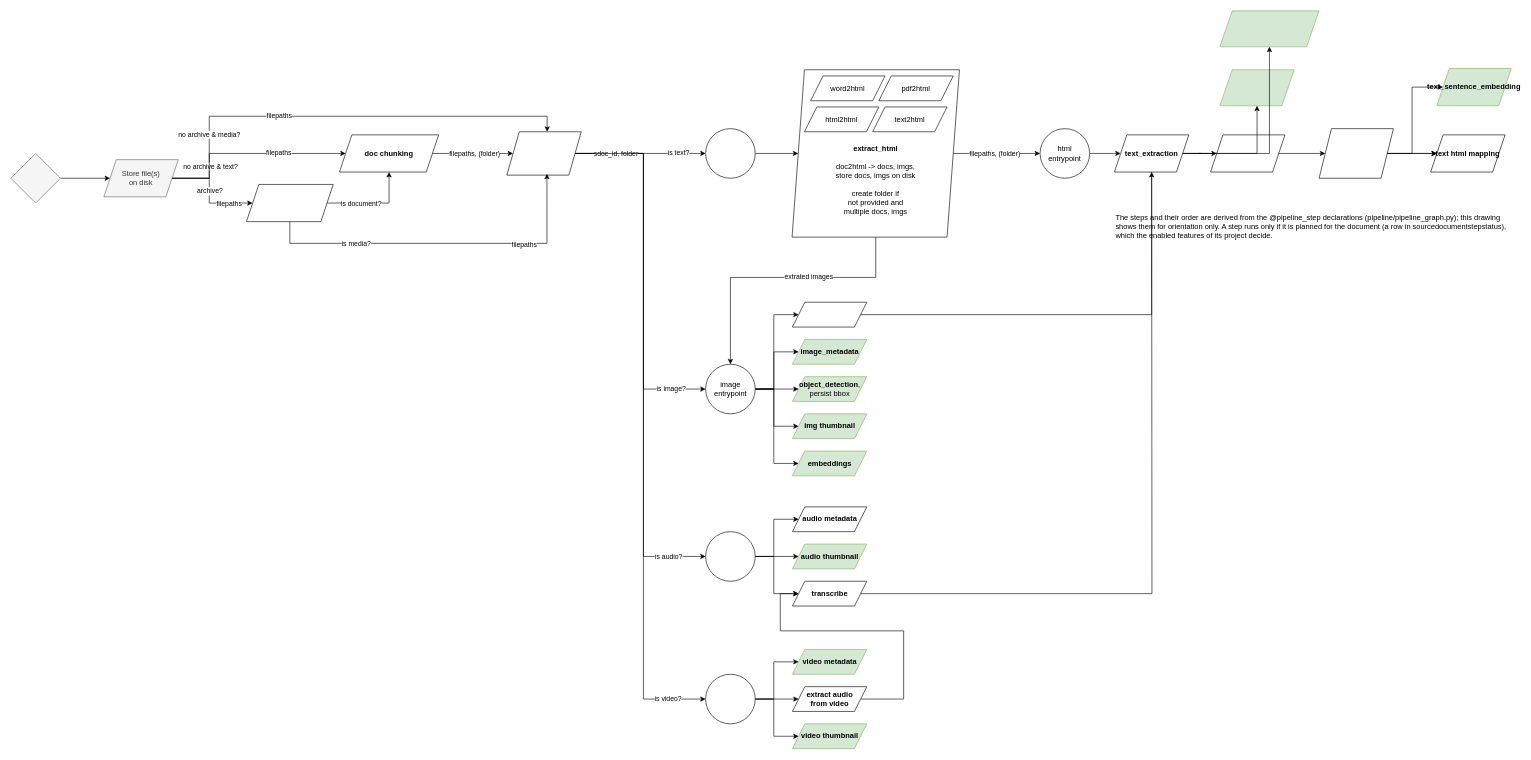
The diagram is 1531 pixels wide and 760 high, and some of its shapes have lost their labels. The centre of each missing label's shape, as x and y in pixels:
audio entrypoint: point 730,556
extract archive , store files on disk: point 289,203
image_caption: point 829,314
sdoc init: point 543,153
text: point 730,153
text_document_embedding: point 1269,28
text_es_index: point 1256,87
text_language_detection: point 1247,153
text_spacy tokens, sentences + text_keywords, text_word_frequency, text_ner: point 1355,153
Upload file or archive: point 35,178
video entrypoint: point 730,699
